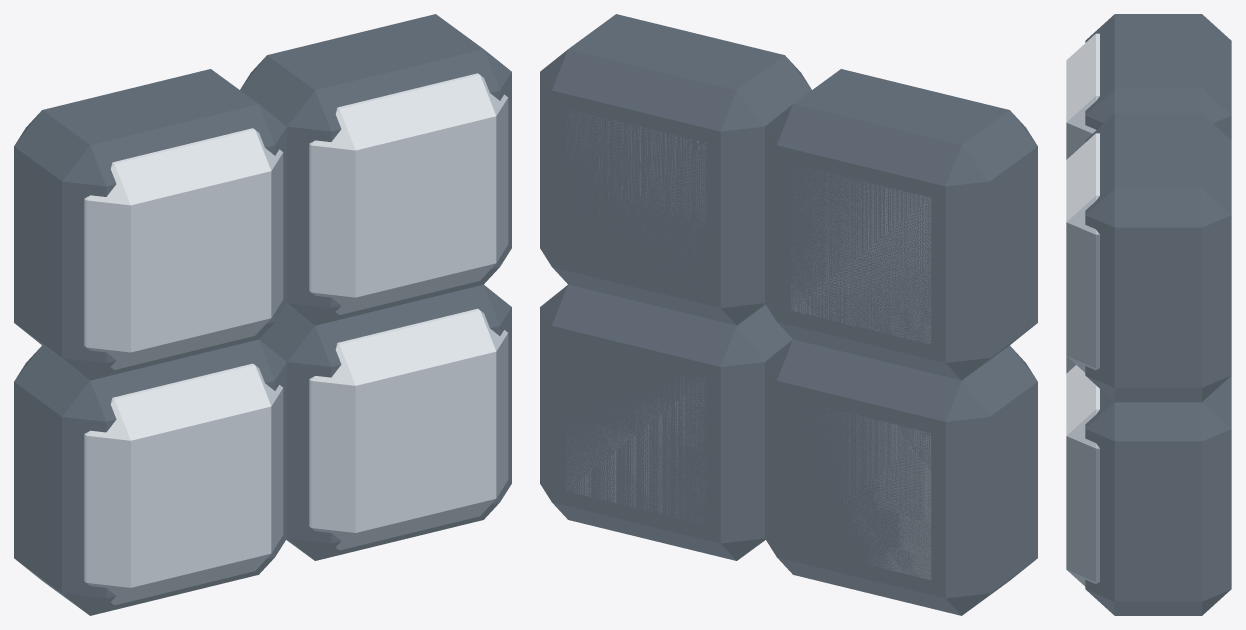
Rendered from Terrain_Block2x2.gltf.
The picture shows the model from 3 angles, left to right: view 1: azimuth 30°, elevation 25°; view 2: azimuth 150°, elevation 25°; view 3: azimuth 270°, elevation 25°; orthographic projection. The views are drawn at different scales.
Visible parts, largest first — view 1: Terrain_Block2x2_baked; view 2: Terrain_Block2x2_baked; view 3: Terrain_Block2x2_baked.
Boxes of the visible parts, x1=… form: Terrain_Block2x2_baked: x1=14, y1=14, x2=511, y2=615; Terrain_Block2x2_baked: x1=540, y1=14, x2=1037, y2=615; Terrain_Block2x2_baked: x1=1066, y1=14, x2=1231, y2=615.
Bounding box in the file's own units: 2 × 2 × 0.7.
